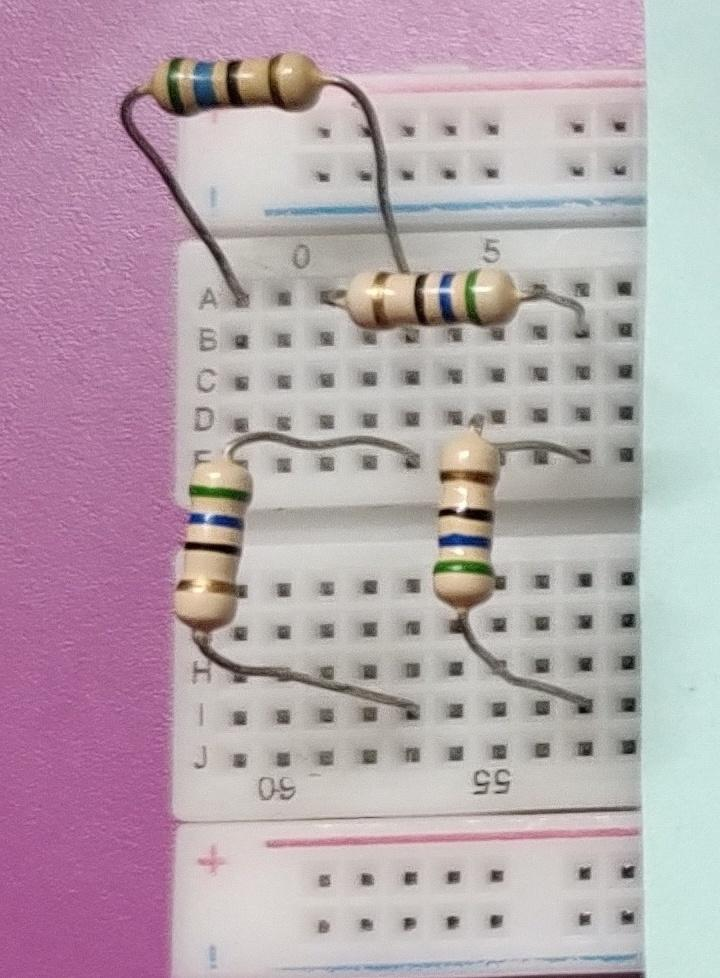resistor: (159, 437, 271, 665), (143, 25, 335, 138), (333, 251, 535, 343), (425, 427, 517, 626)
